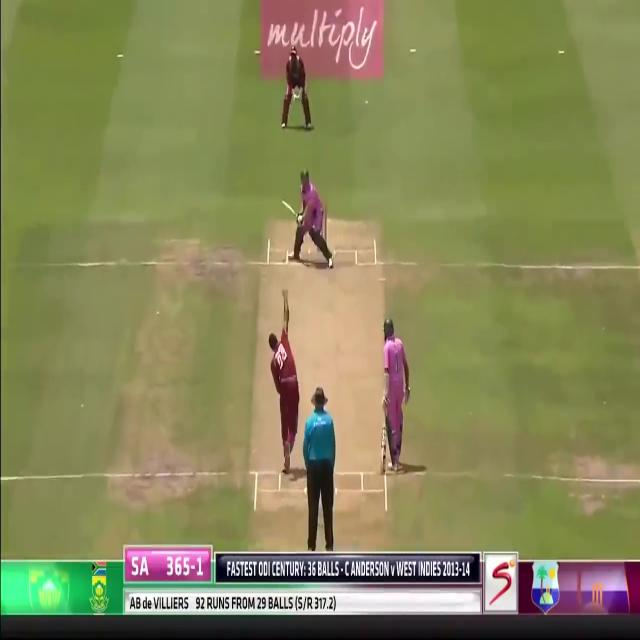Ball: (381, 318, 410, 473), (291, 168, 333, 266)
Fielder: (268, 291, 302, 477), (282, 49, 309, 131)
Umpire: (301, 386, 337, 548)
